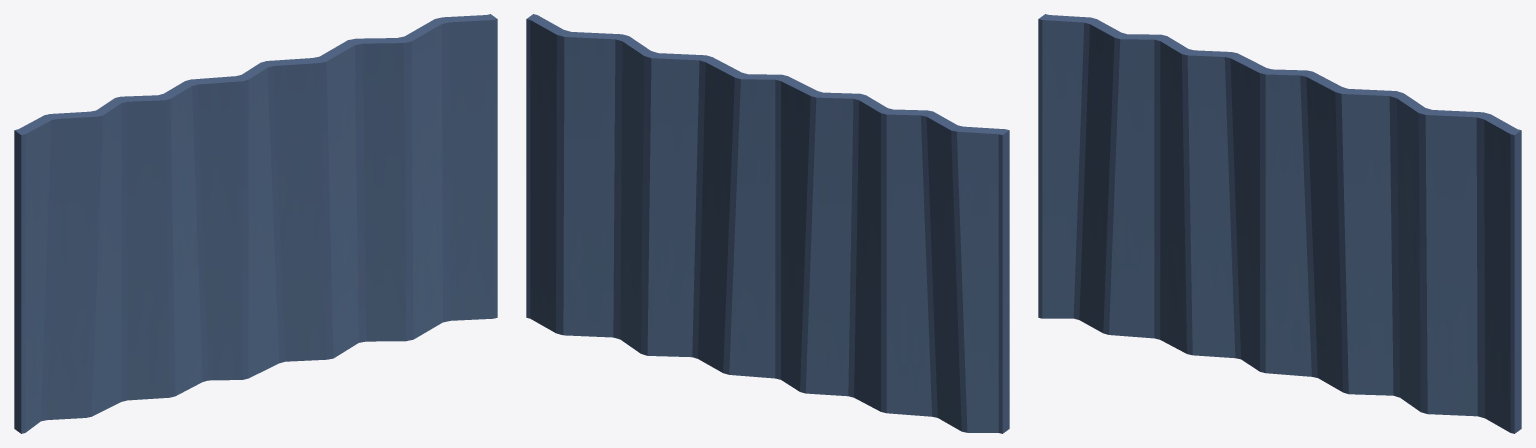
The model's file is metal_board_3.glb.
3 renders of one model, left to right at view 1: azimuth 30°, elevation 25°; view 2: azimuth 150°, elevation 25°; view 3: azimuth 330°, elevation 25°, orthographic.
Parts seen in each view (by area): view 1: metal_board_3; view 2: metal_board_3; view 3: metal_board_3.
Boxes of the visible parts, x1,y1,x2,y2 form: metal_board_3: (14, 14, 497, 433); metal_board_3: (526, 14, 1009, 433); metal_board_3: (1038, 14, 1521, 433).
Bounding box in the file's own units: 1.58 × 0.9494 × 0.0992.
1 material, 1 textured.
